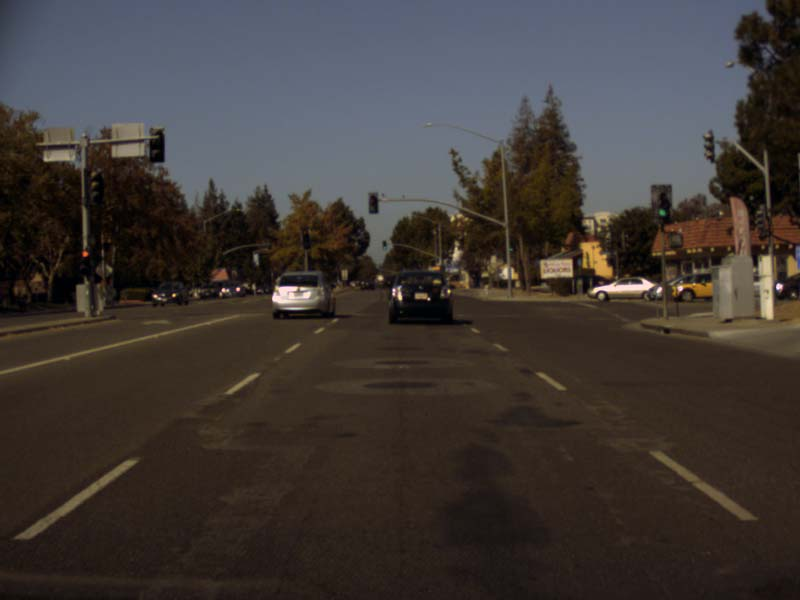Green: (653, 185, 670, 222), (368, 192, 378, 214), (508, 240, 514, 252), (381, 240, 386, 250)
Red: (80, 248, 91, 274), (302, 227, 310, 249)
